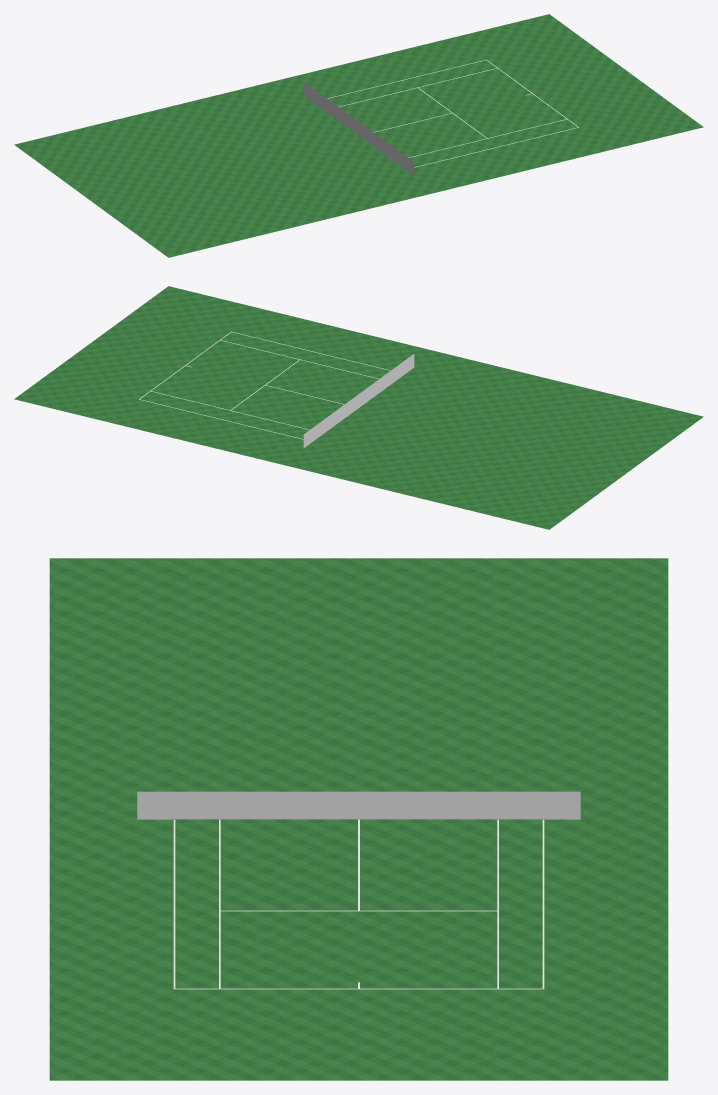
File: terrain.obj
3 renders of one model, top to bottom at view 1: azimuth 30°, elevation 25°; view 2: azimuth 150°, elevation 25°; view 3: azimuth 270°, elevation 25°, orthographic. The views are drawn at different scales.
Parts seen in each view (by area): view 1: Layer0_001; view 2: Layer0_001; view 3: Layer0_001.
Boxes of the visible parts, left/top/right/bottom form: Layer0_001: left=14, top=14, right=703, bottom=257; Layer0_001: left=14, top=286, right=703, bottom=529; Layer0_001: left=49, top=558, right=668, bottom=1080.
Bounding box in the file's own units: 3657 × 91 × 1829.
5 materials, 3 textured.
